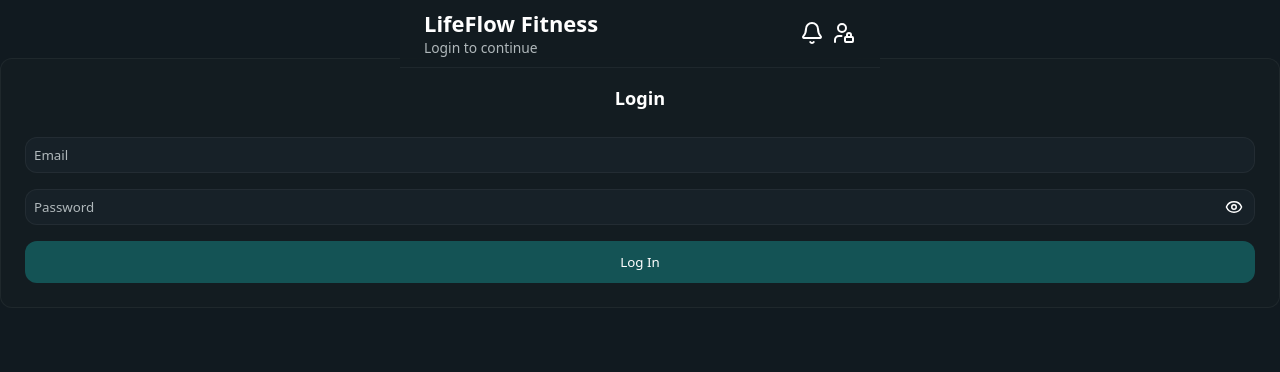
Test: Login › shows error on failed login
Type "test@test.com" into the field with placeholder "Email". click: [640, 155]
box: [25,137,1255,173]
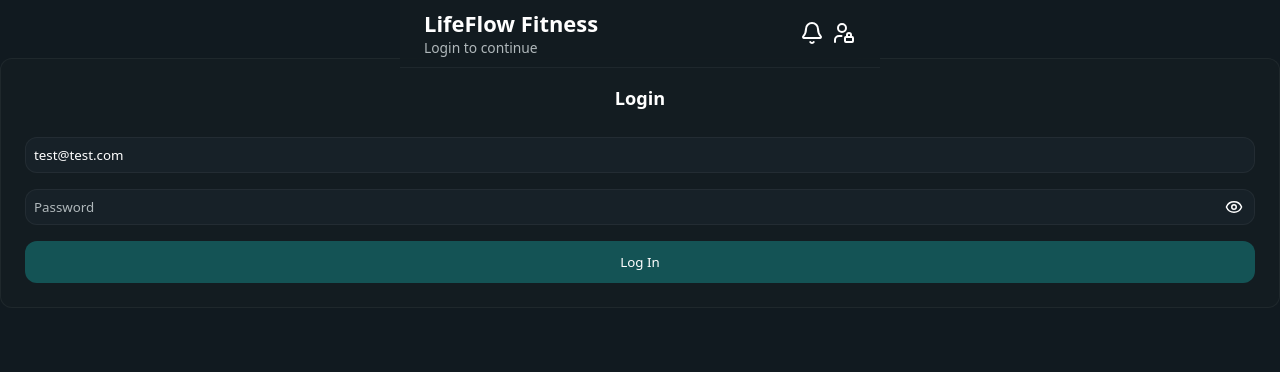
Type "wrong" into the password field with placeholder "Password". click: [640, 207]
box: [25,189,1255,225]
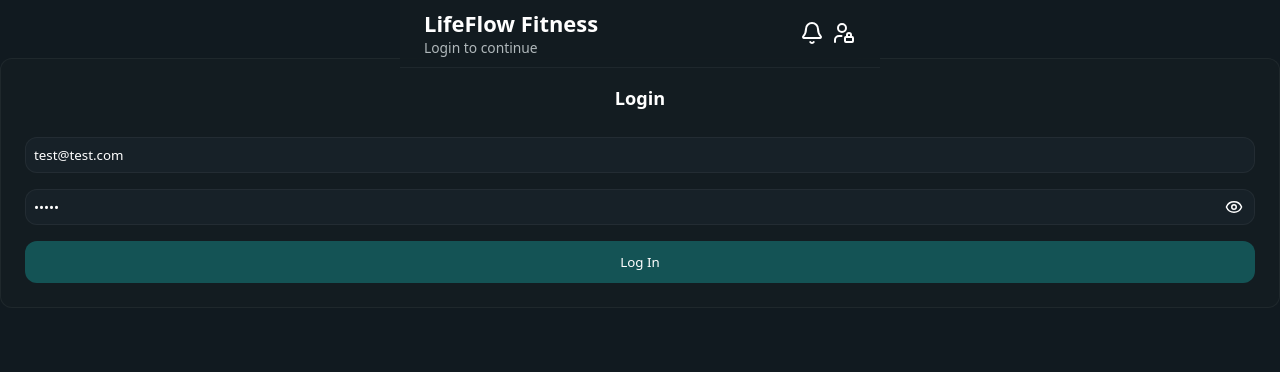
Click the button "Log In". click: [640, 262]
box: [25,241,1255,283]
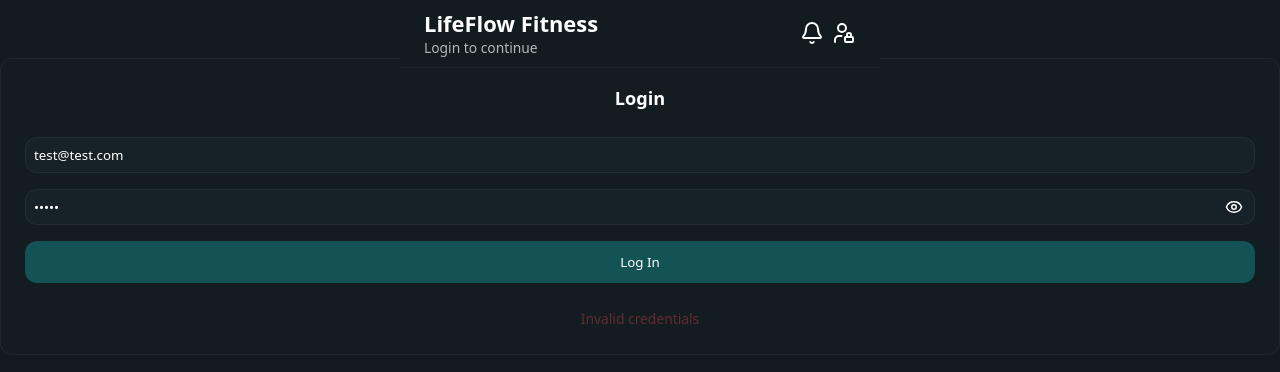
Now the text "Invalid credentials" is shown, box [581,309,699,328]
